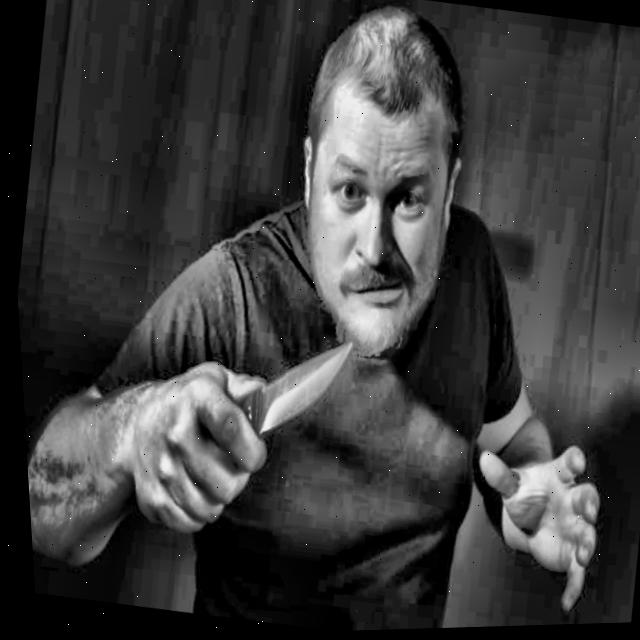pisau: (140, 335, 356, 551)
